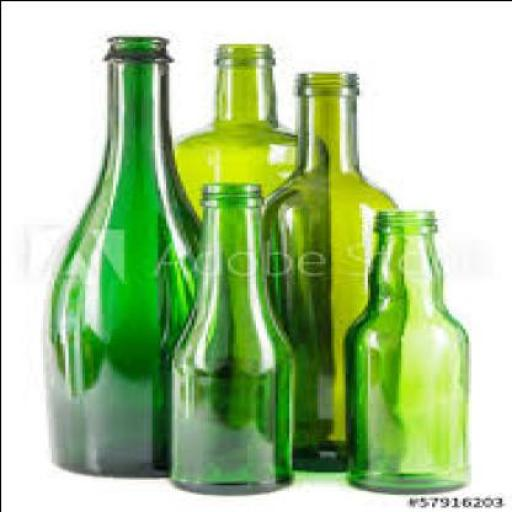glass: (41, 30, 199, 476), (260, 69, 392, 469), (165, 182, 292, 492), (338, 206, 462, 492), (171, 40, 291, 210)
